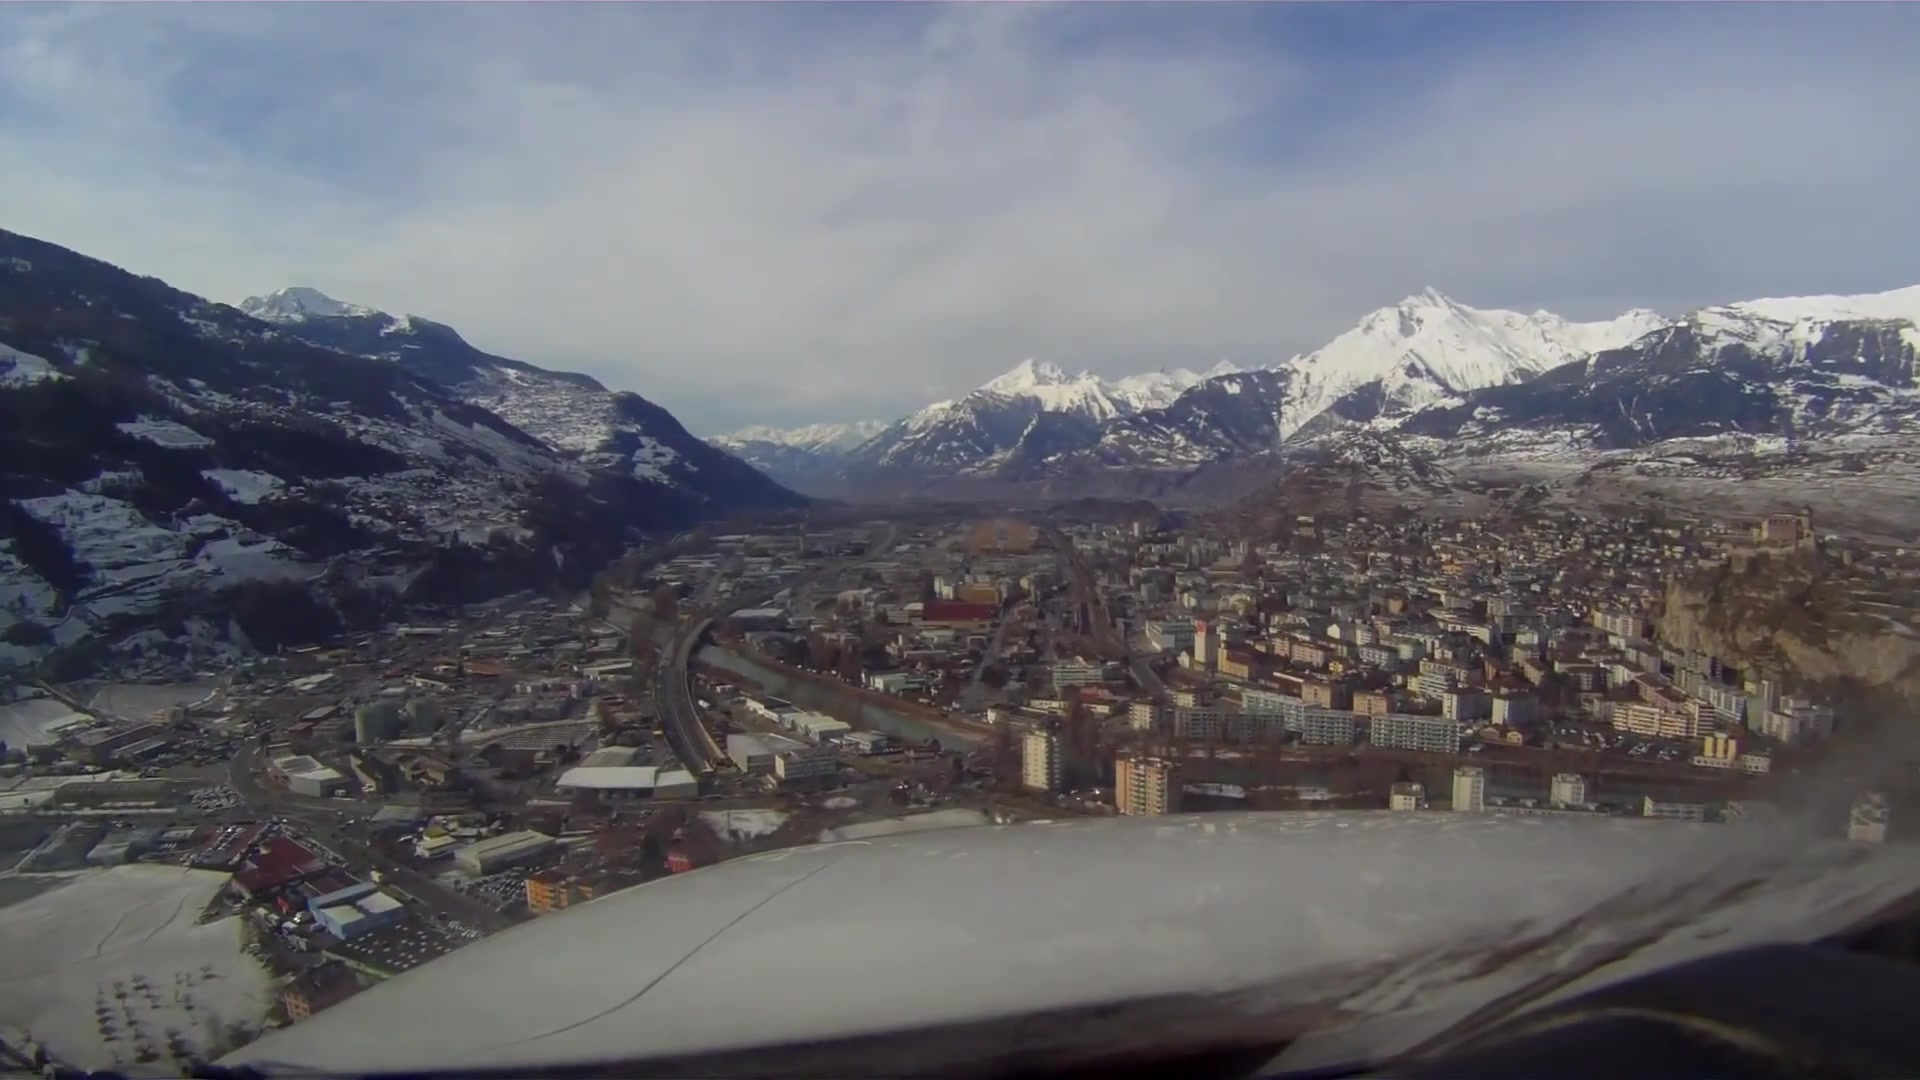runway: (996, 516, 1011, 549)
